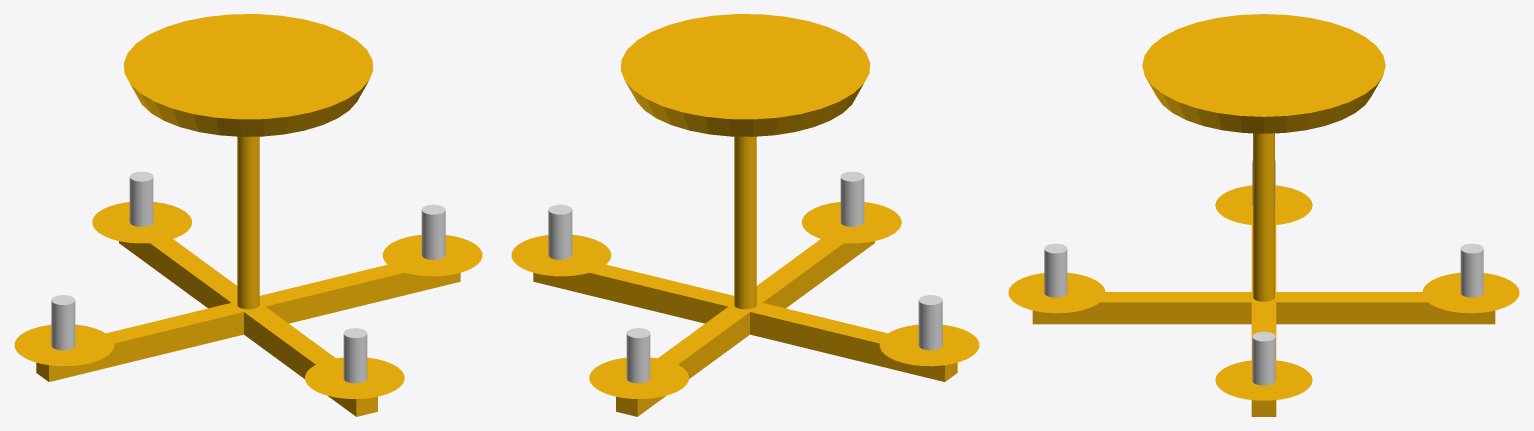
File: CeilingCandelabra.fbx
3 views of the same model, side by side, from view 1: azimuth 30°, elevation 25°; view 2: azimuth 150°, elevation 25°; view 3: azimuth 270°, elevation 25° (orthographic). The views are drawn at different scales.
Visible parts, largest first — view 1: Cylinder.001; view 2: Cylinder.001; view 3: Cylinder.001.
Part boxes in pixels (x1,y1,x2,y2): Cylinder.001: (14, 14, 482, 416); Cylinder.001: (511, 14, 979, 416); Cylinder.001: (1008, 14, 1519, 416).
Size of the model in its own units: 210 by 115 by 210.
